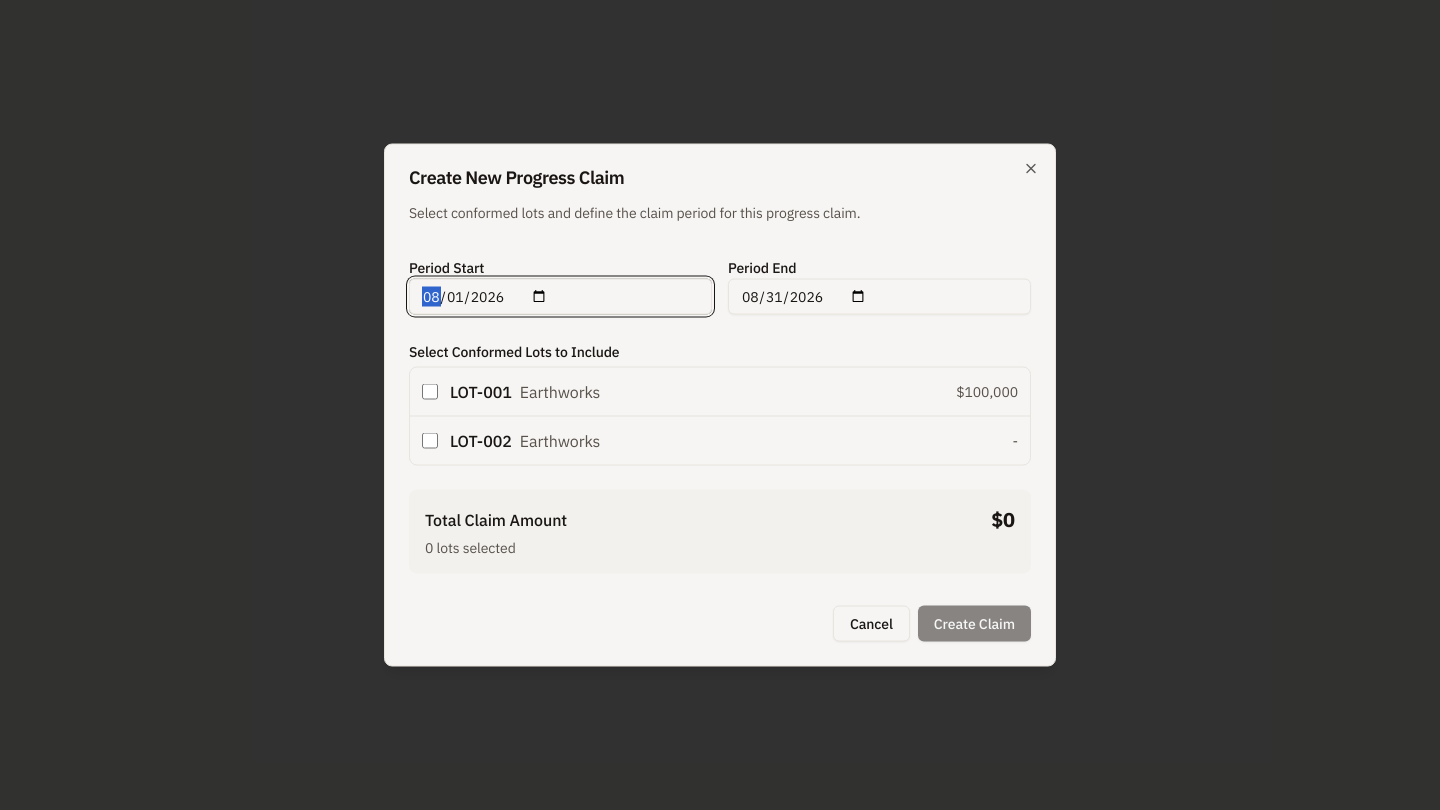
Test: CreateClaimModal create flow › counts null-budget lots but excludes them from the total and says so
Expected: the text "LOT-002" is shown, [450, 430, 512, 450]
Click the checkbox named "Select LOT-001".
click(430, 392)  # box [422, 384, 438, 400]
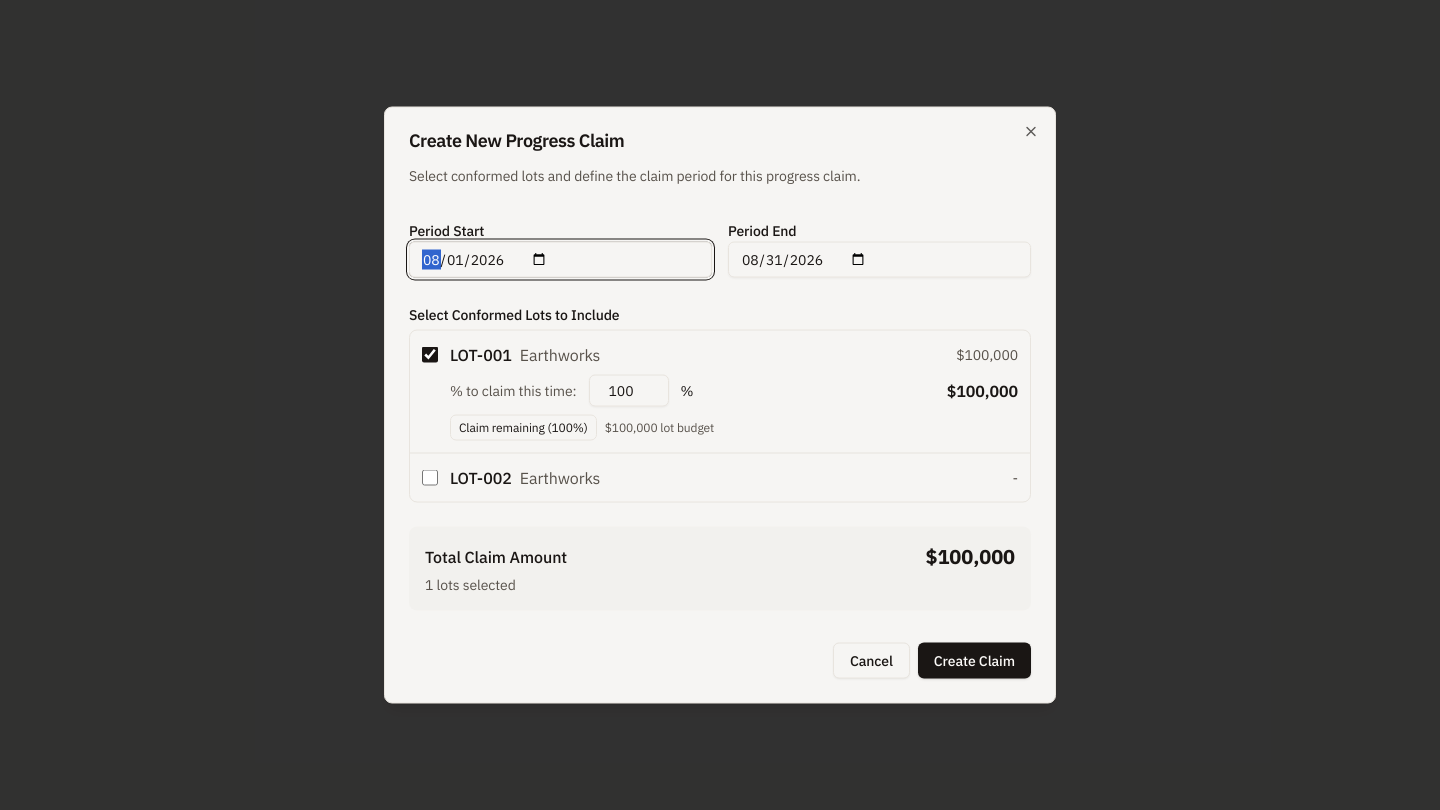
Click the checkbox named "Select LOT-002".
click(430, 478)  # box [422, 470, 438, 486]
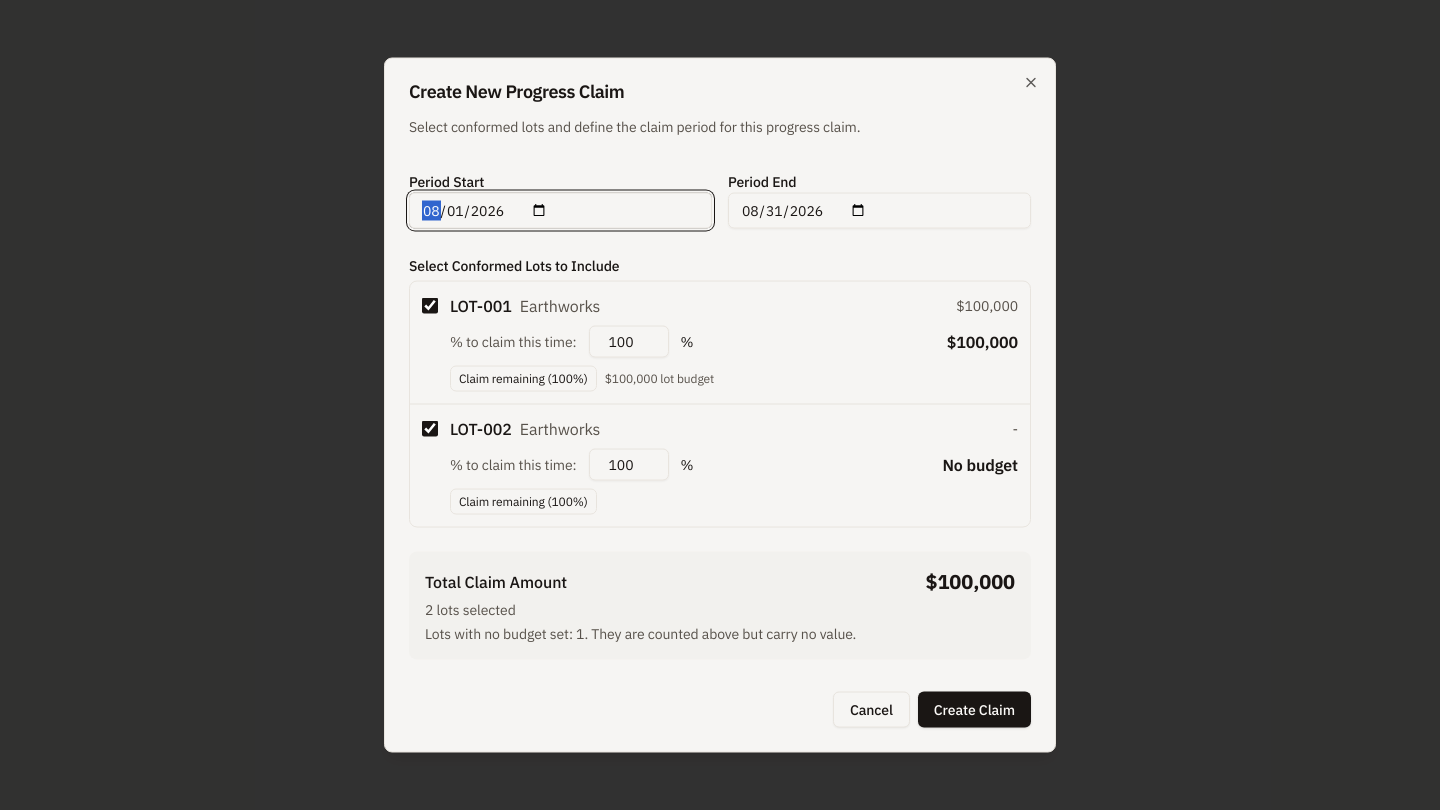
Expected: the text "$100,000" in the row of "Total Claim Amount" is shown, [926, 568, 1015, 594]
Expected: the text "2 lots selected" is shown, [425, 600, 516, 618]
Expected: the text "No budget" is shown, [942, 452, 1018, 476]
// …and the disclosure only appears while such a lot is actually selected.
Click the checkbox named "Select LOT-002".
click(430, 428)  # box [422, 420, 438, 436]
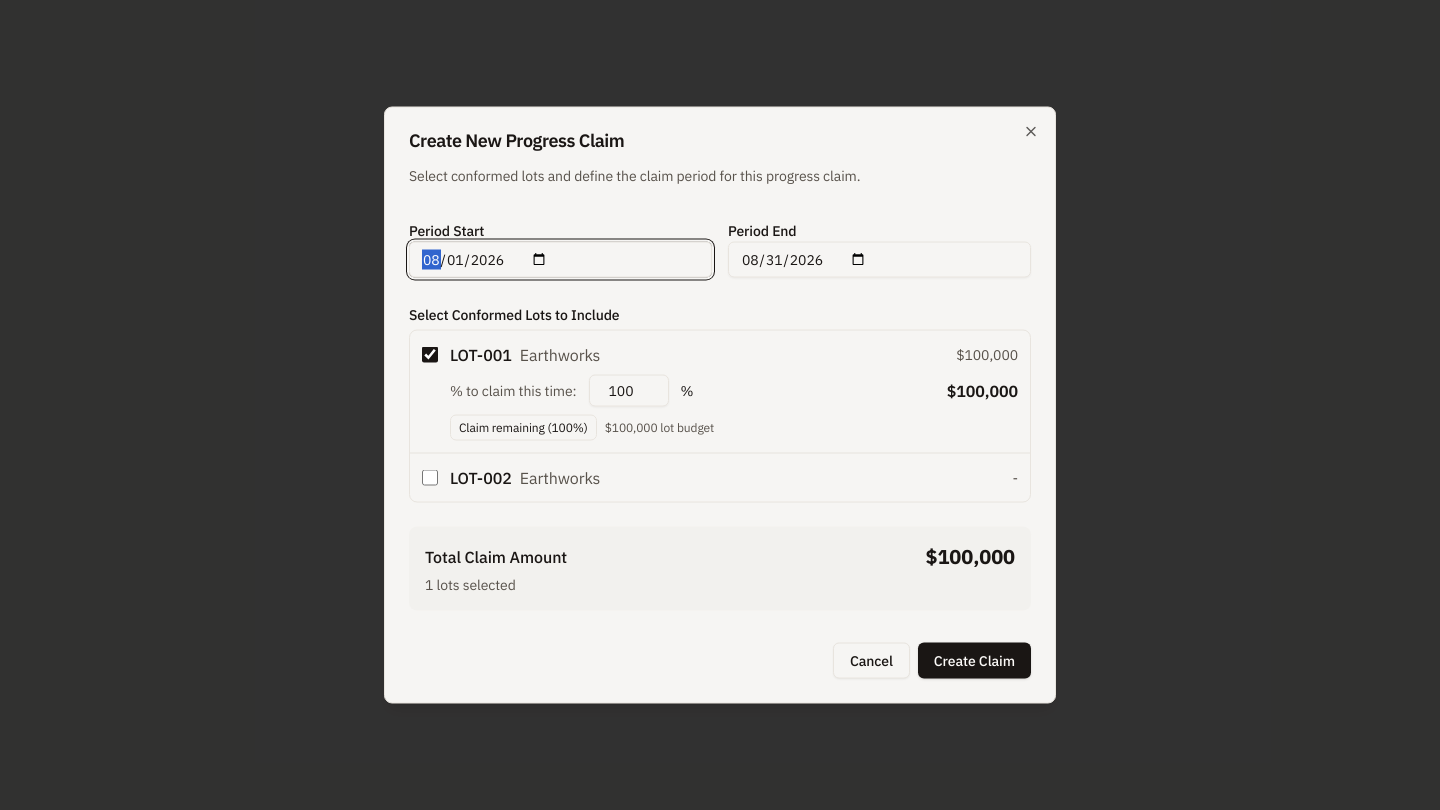
Expected: the text "Lots with no budget set" is gone
